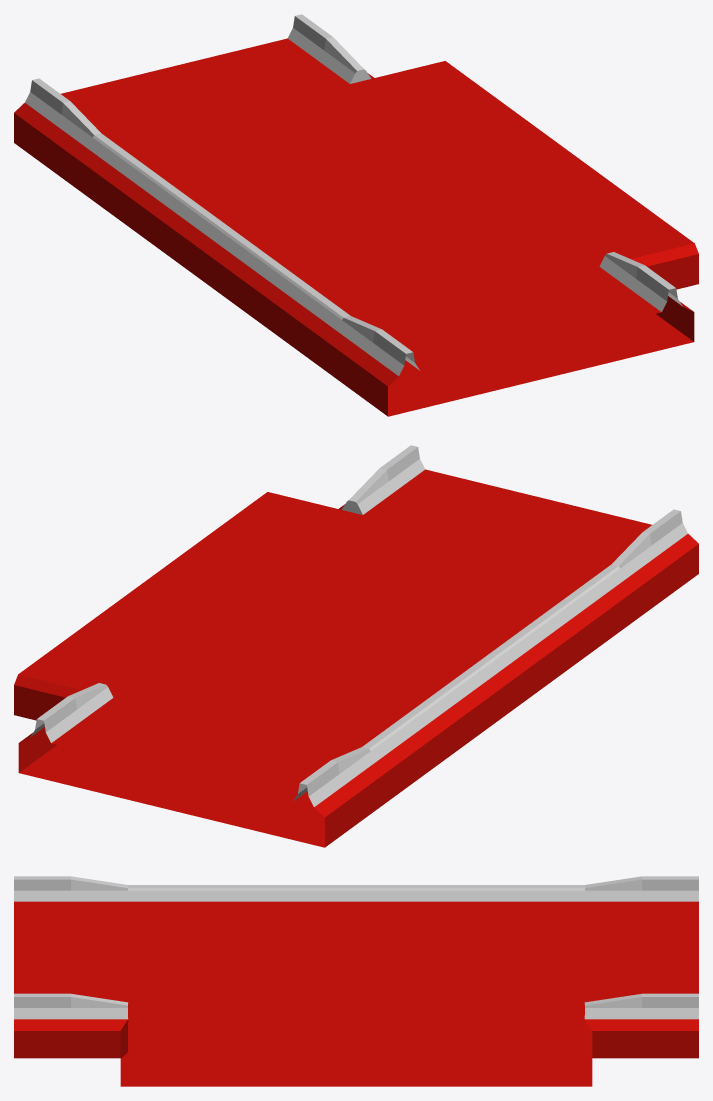
The model's file is SM_Connector_HighwayRamp2Road_3Ways.fbx.
The picture shows the model from 3 angles, top to bottom: view 1: azimuth 30°, elevation 25°; view 2: azimuth 150°, elevation 25°; view 3: azimuth 270°, elevation 25°; orthographic projection. The views are drawn at different scales.
Visible parts, largest first — view 1: Highway_Exchanger_Ramp.001; view 2: Highway_Exchanger_Ramp.001; view 3: Highway_Exchanger_Ramp.001.
Boxes of the visible parts, x1=… form: Highway_Exchanger_Ramp.001: x1=14, y1=14, x2=698, y2=416; Highway_Exchanger_Ramp.001: x1=14, y1=445, x2=698, y2=847; Highway_Exchanger_Ramp.001: x1=14, y1=876, x2=698, y2=1086.
Size of the model in its own units: 2050 by 310 by 3600.
